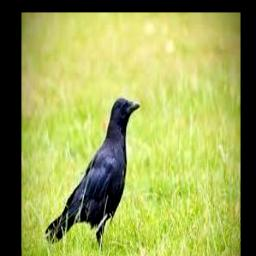Crow: (45, 98, 140, 256)
